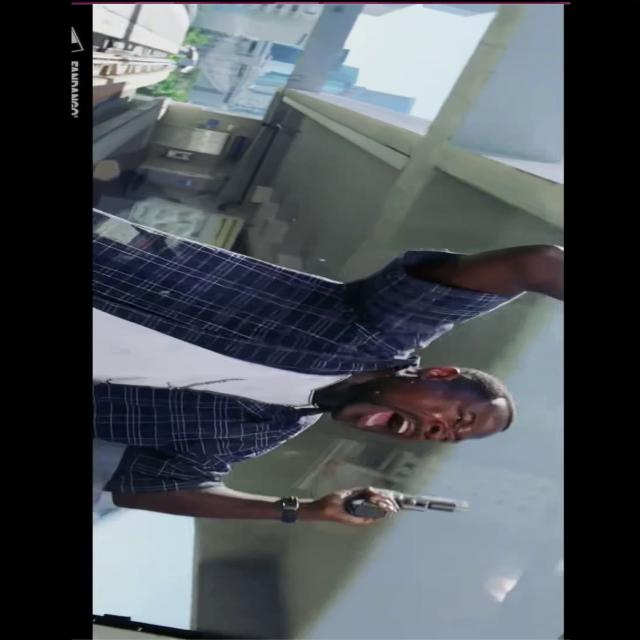weapons: (327, 481, 472, 522)
